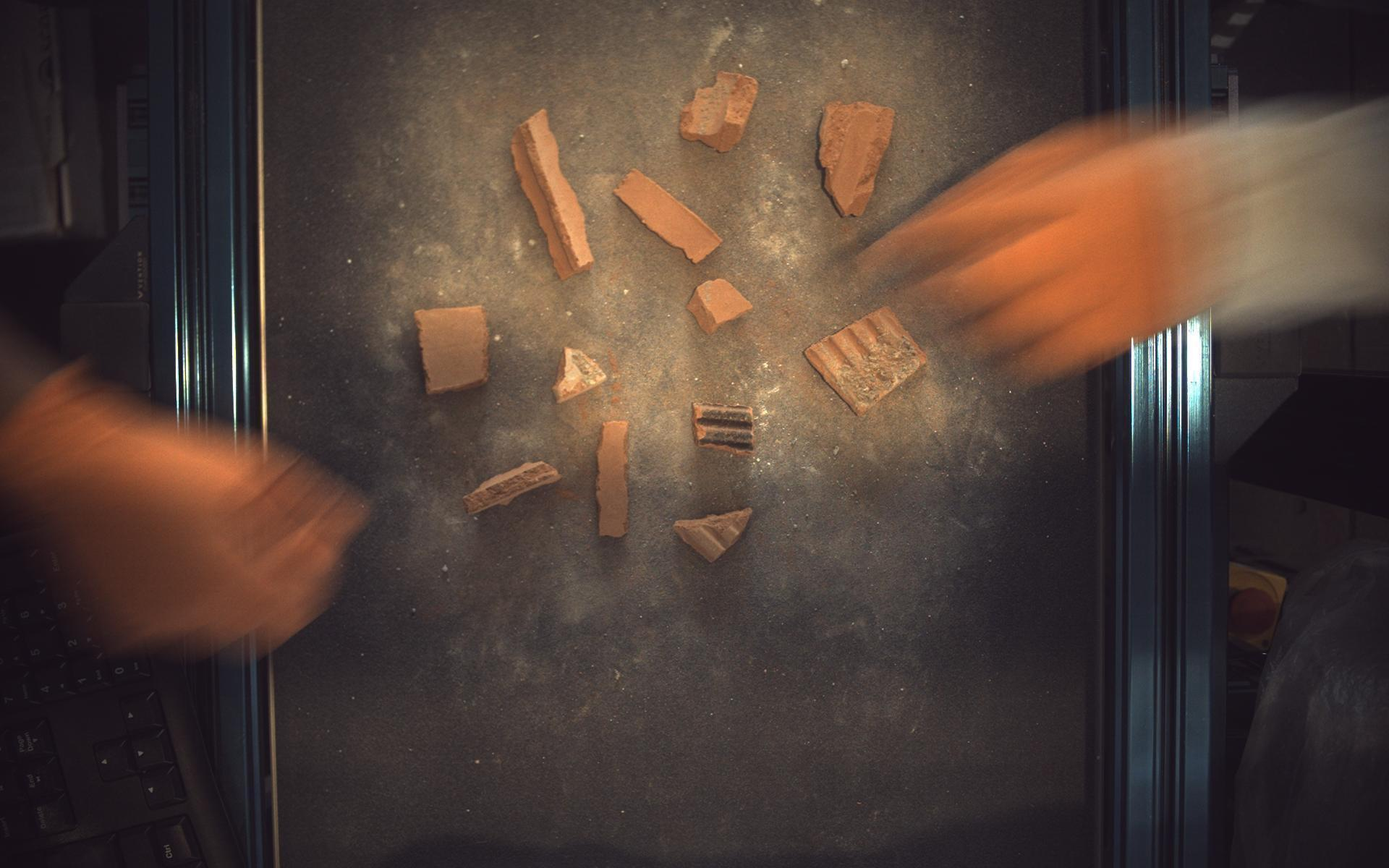brick: (511, 109, 594, 279), (807, 307, 930, 417), (615, 169, 723, 263), (820, 100, 896, 216), (415, 305, 489, 394), (681, 70, 759, 151), (464, 461, 561, 514), (676, 509, 753, 563), (597, 421, 629, 537), (687, 278, 754, 333), (694, 402, 756, 456), (553, 346, 607, 403)
